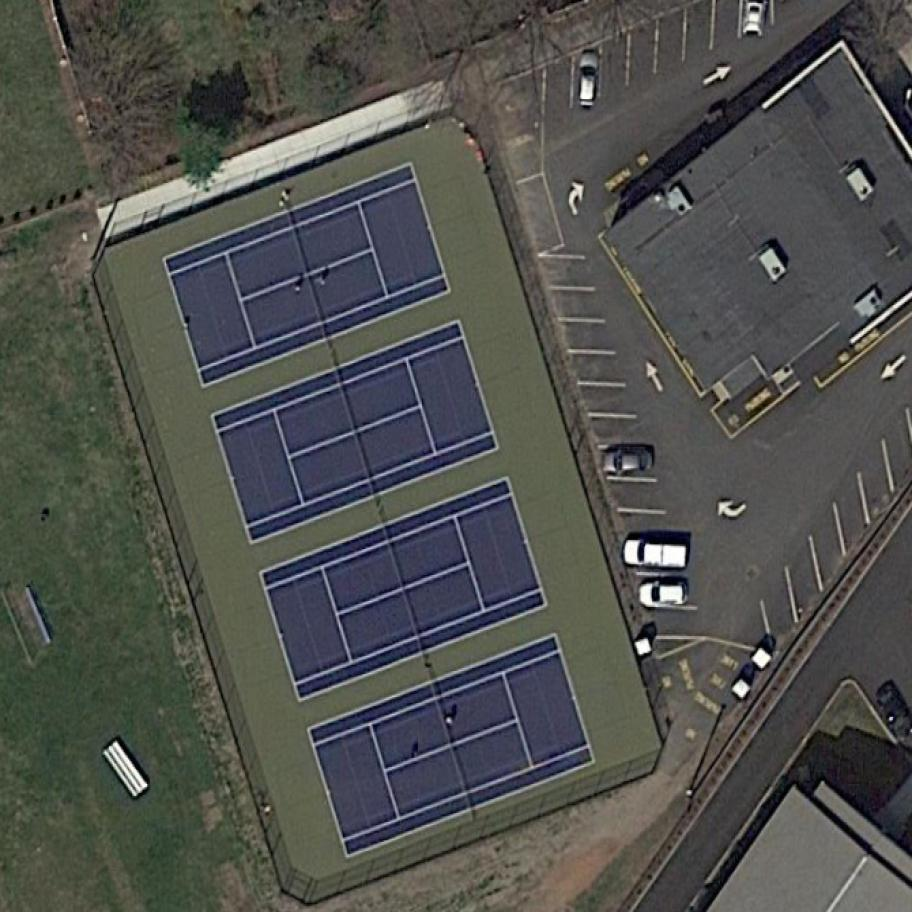large-vehicle: (619, 535, 692, 573), (636, 576, 693, 612), (573, 47, 603, 113), (600, 445, 655, 477)
